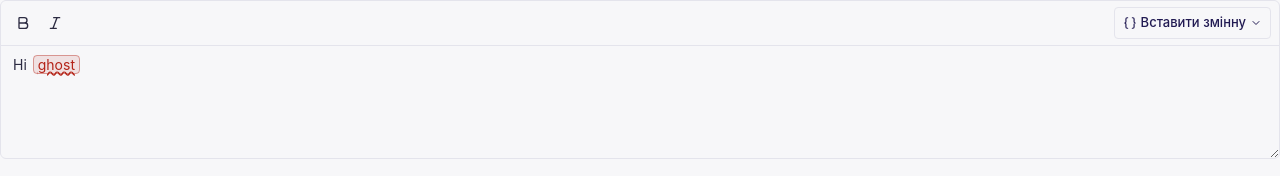
Scenario: unknown variable tooltip in InAppBodyEditor › uses the shared tooltip on keyboard focus and Escape without changing stored tokens
The width and height of the screenshot is (1280, 176).
Focus the text "ghost" at (56, 64), box [33,55,80,74]
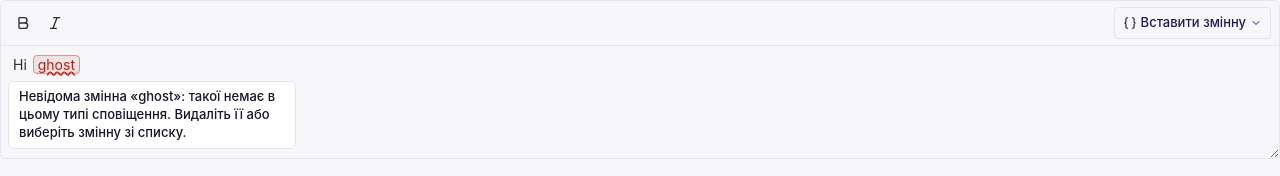
Check: the tooltip shows "ghost", box [19,88,275,140]
Press Escape in the text "ghost", box [33,55,80,74]
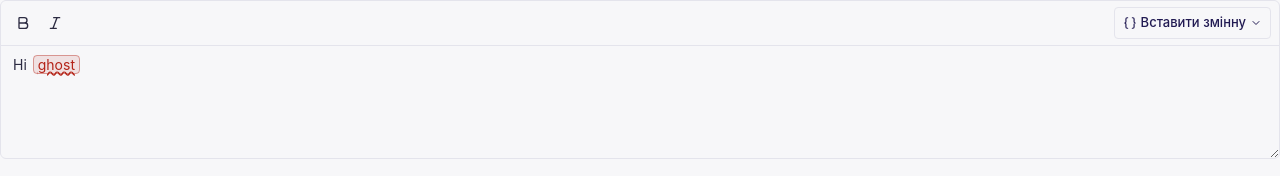
Check: the tooltip is gone
